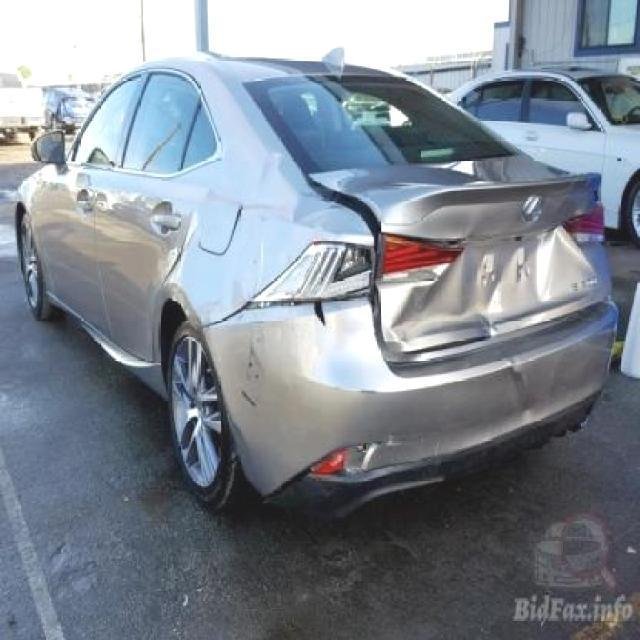minor: (317, 305, 328, 328)
moderate: (242, 343, 271, 412)
severe: (378, 183, 606, 355)
